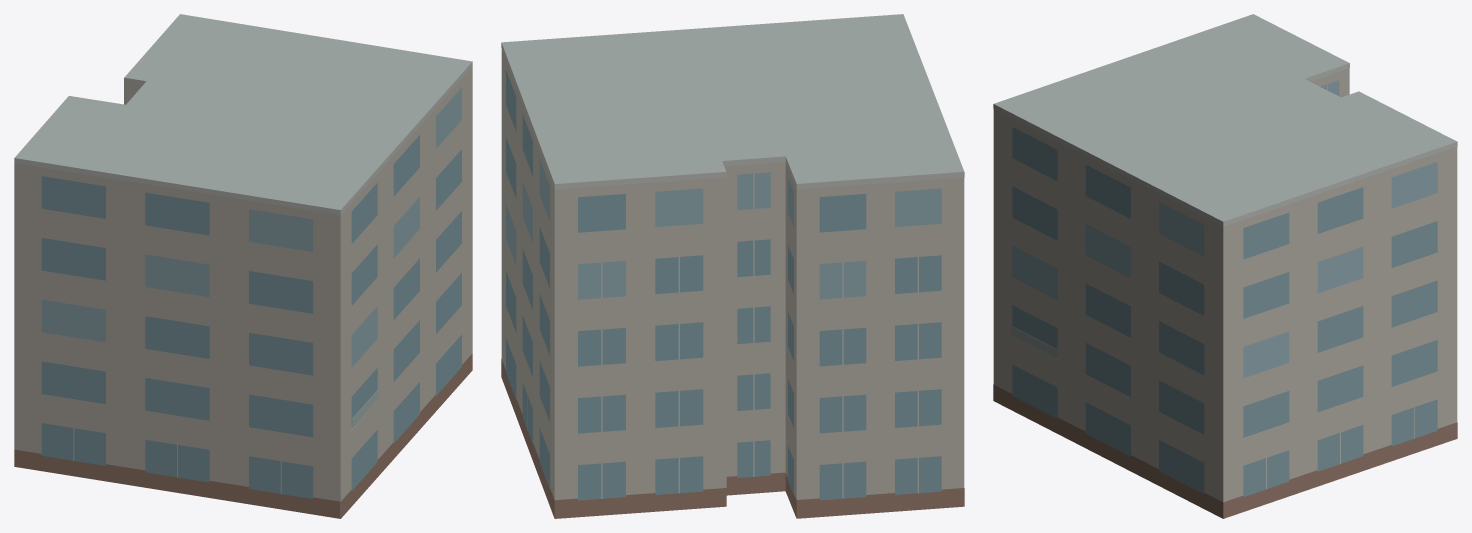
The model's file is survey-upis-32923346.glb.
3 views of the same model, side by side, from view 1: azimuth 30°, elevation 25°; view 2: azimuth 150°, elevation 25°; view 3: azimuth 270°, elevation 25° (orthographic). The views are drawn at different scales.
Parts seen in each view (by area): view 1: survey-upis-32923346.tmp; view 2: survey-upis-32923346.tmp; view 3: survey-upis-32923346.tmp.
Part boxes in pixels (box(x1,y1,x2,y2)): survey-upis-32923346.tmp: box(14, 14, 472, 518); survey-upis-32923346.tmp: box(501, 14, 964, 518); survey-upis-32923346.tmp: box(993, 14, 1457, 518).
Bounding box in the file's own units: 22.29 × 14.85 × 21.03.
